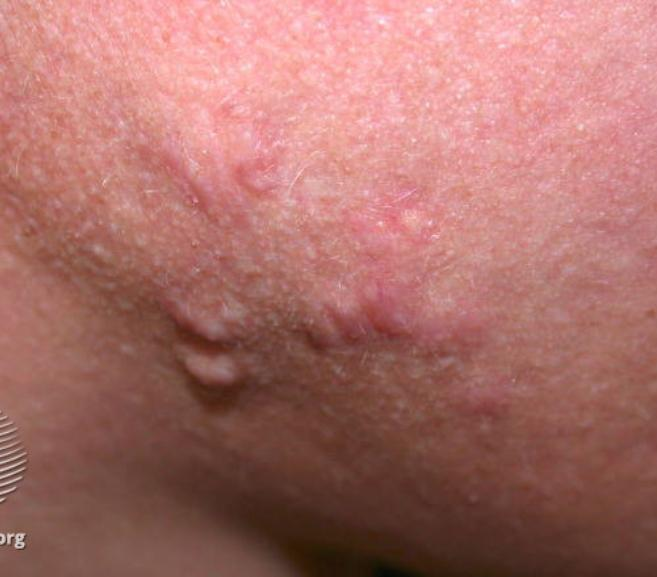cystic: (331, 292, 370, 330), (296, 326, 328, 363)
keloid: (167, 345, 251, 418), (158, 297, 256, 351)
papular: (458, 378, 524, 424)
